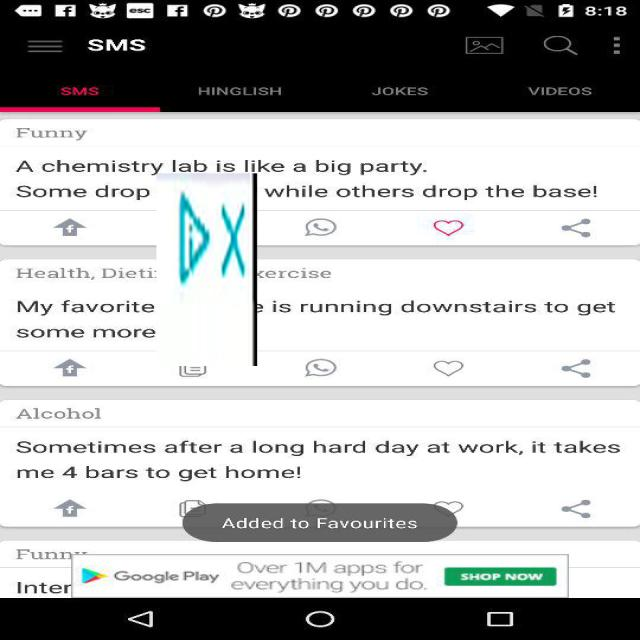sneaking: (157, 173, 257, 366)
